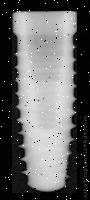Biomet 3i: (12, 11, 77, 193)
